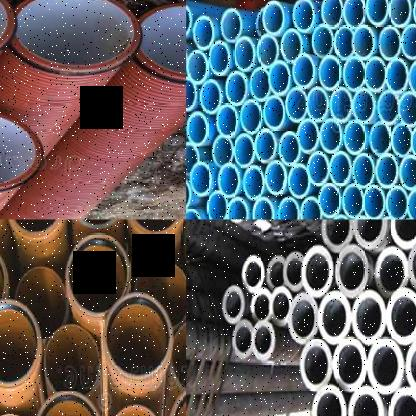pipe: (10, 0, 141, 71), (102, 296, 174, 382), (65, 233, 132, 321), (134, 2, 186, 81), (45, 324, 100, 398), (13, 266, 68, 339), (0, 300, 42, 391), (135, 260, 186, 331), (0, 113, 42, 190), (365, 336, 405, 397), (331, 243, 372, 300), (351, 287, 387, 347), (373, 244, 410, 301), (331, 336, 367, 394), (317, 289, 352, 344), (33, 390, 104, 416), (385, 288, 416, 347), (298, 337, 330, 392), (301, 245, 333, 300), (288, 290, 318, 346), (317, 219, 353, 256), (6, 220, 68, 240), (125, 220, 186, 240), (351, 220, 389, 252), (345, 385, 384, 416), (250, 318, 276, 364), (170, 319, 186, 391), (311, 384, 347, 416), (269, 286, 292, 330), (384, 385, 416, 416), (219, 285, 244, 324), (282, 250, 304, 294), (231, 318, 253, 361), (248, 285, 272, 324), (342, 55, 366, 93), (386, 57, 410, 94), (388, 219, 416, 250), (262, 95, 286, 131), (318, 182, 341, 219), (403, 333, 416, 398), (378, 25, 402, 60), (351, 25, 375, 60), (306, 151, 329, 187), (240, 256, 263, 292), (266, 252, 287, 291), (330, 86, 352, 123), (364, 56, 386, 93), (384, 185, 407, 220), (218, 163, 241, 198), (292, 53, 315, 88), (280, 29, 303, 64), (311, 23, 334, 58), (262, 0, 285, 35), (363, 184, 385, 220), (288, 163, 310, 199), (190, 161, 212, 197), (376, 153, 398, 189), (233, 133, 255, 169), (390, 122, 412, 158), (298, 118, 320, 154), (320, 118, 342, 154), (216, 103, 238, 139), (240, 99, 262, 135), (377, 89, 399, 125), (285, 87, 307, 123), (200, 78, 222, 114), (318, 55, 340, 91), (186, 49, 208, 85), (193, 15, 215, 51), (233, 36, 256, 70), (257, 34, 280, 68), (342, 183, 364, 218), (243, 165, 265, 200), (265, 160, 287, 195), (352, 153, 374, 188), (329, 151, 351, 186), (278, 131, 300, 166), (254, 128, 276, 163), (344, 120, 366, 155), (186, 111, 208, 146), (352, 88, 374, 123), (306, 86, 328, 121), (225, 71, 247, 106), (268, 60, 290, 95), (208, 40, 230, 75), (220, 8, 242, 43), (370, 122, 392, 156), (404, 234, 416, 296), (292, 0, 315, 32), (333, 25, 354, 60), (212, 136, 234, 168), (397, 90, 416, 127), (250, 66, 270, 101), (0, 241, 8, 327), (342, 0, 365, 29), (206, 190, 228, 219), (388, 0, 412, 26), (320, 0, 342, 28), (365, 0, 388, 26), (399, 155, 416, 190), (401, 24, 416, 60), (226, 196, 249, 219), (252, 196, 274, 219), (300, 196, 322, 219), (278, 196, 300, 219), (186, 141, 200, 175), (186, 76, 198, 111), (407, 58, 416, 95), (406, 188, 416, 219), (410, 124, 416, 160), (186, 3, 192, 39), (186, 178, 192, 212), (186, 208, 202, 219), (413, 0, 416, 29)
